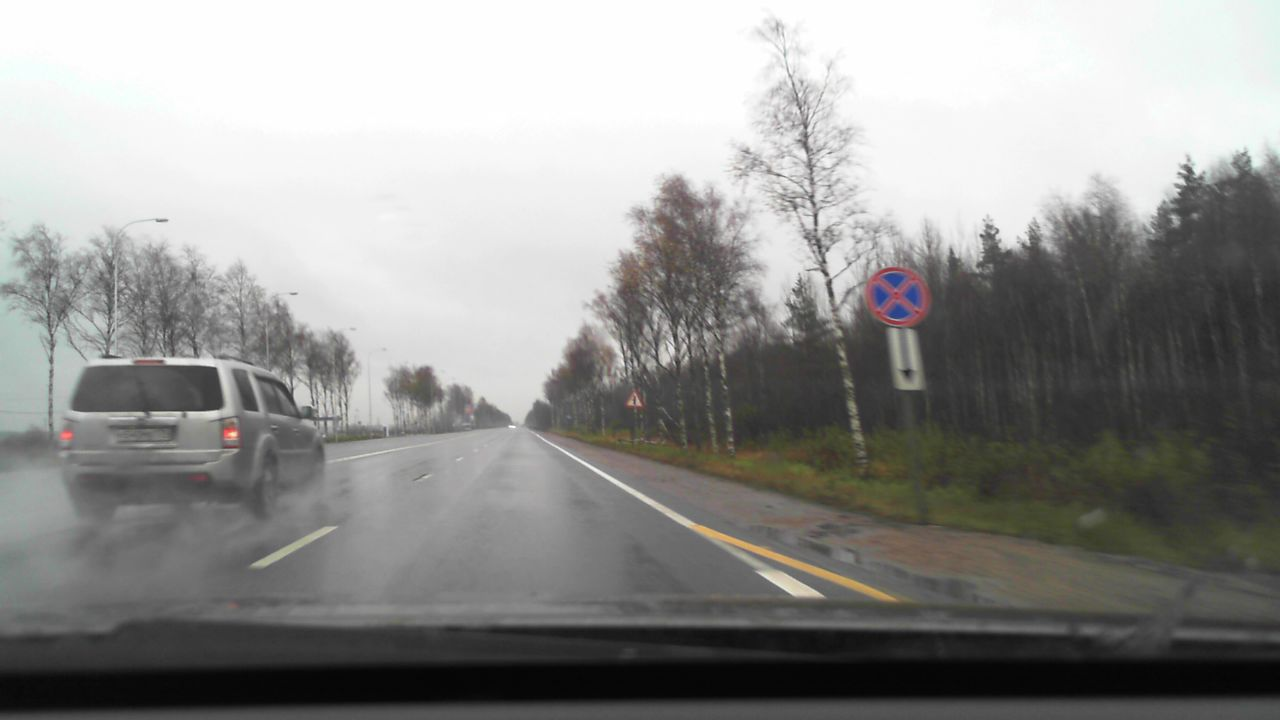No Parking: (863, 266, 930, 328)
